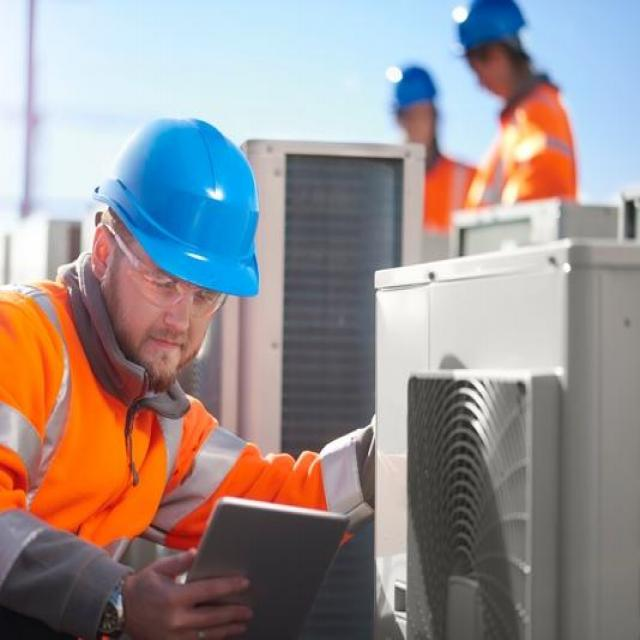Reflective-Jacket: (0, 286, 306, 632), (473, 79, 586, 211)
Safety-Helmet: (89, 110, 271, 298), (447, 1, 531, 58), (381, 56, 441, 116)
